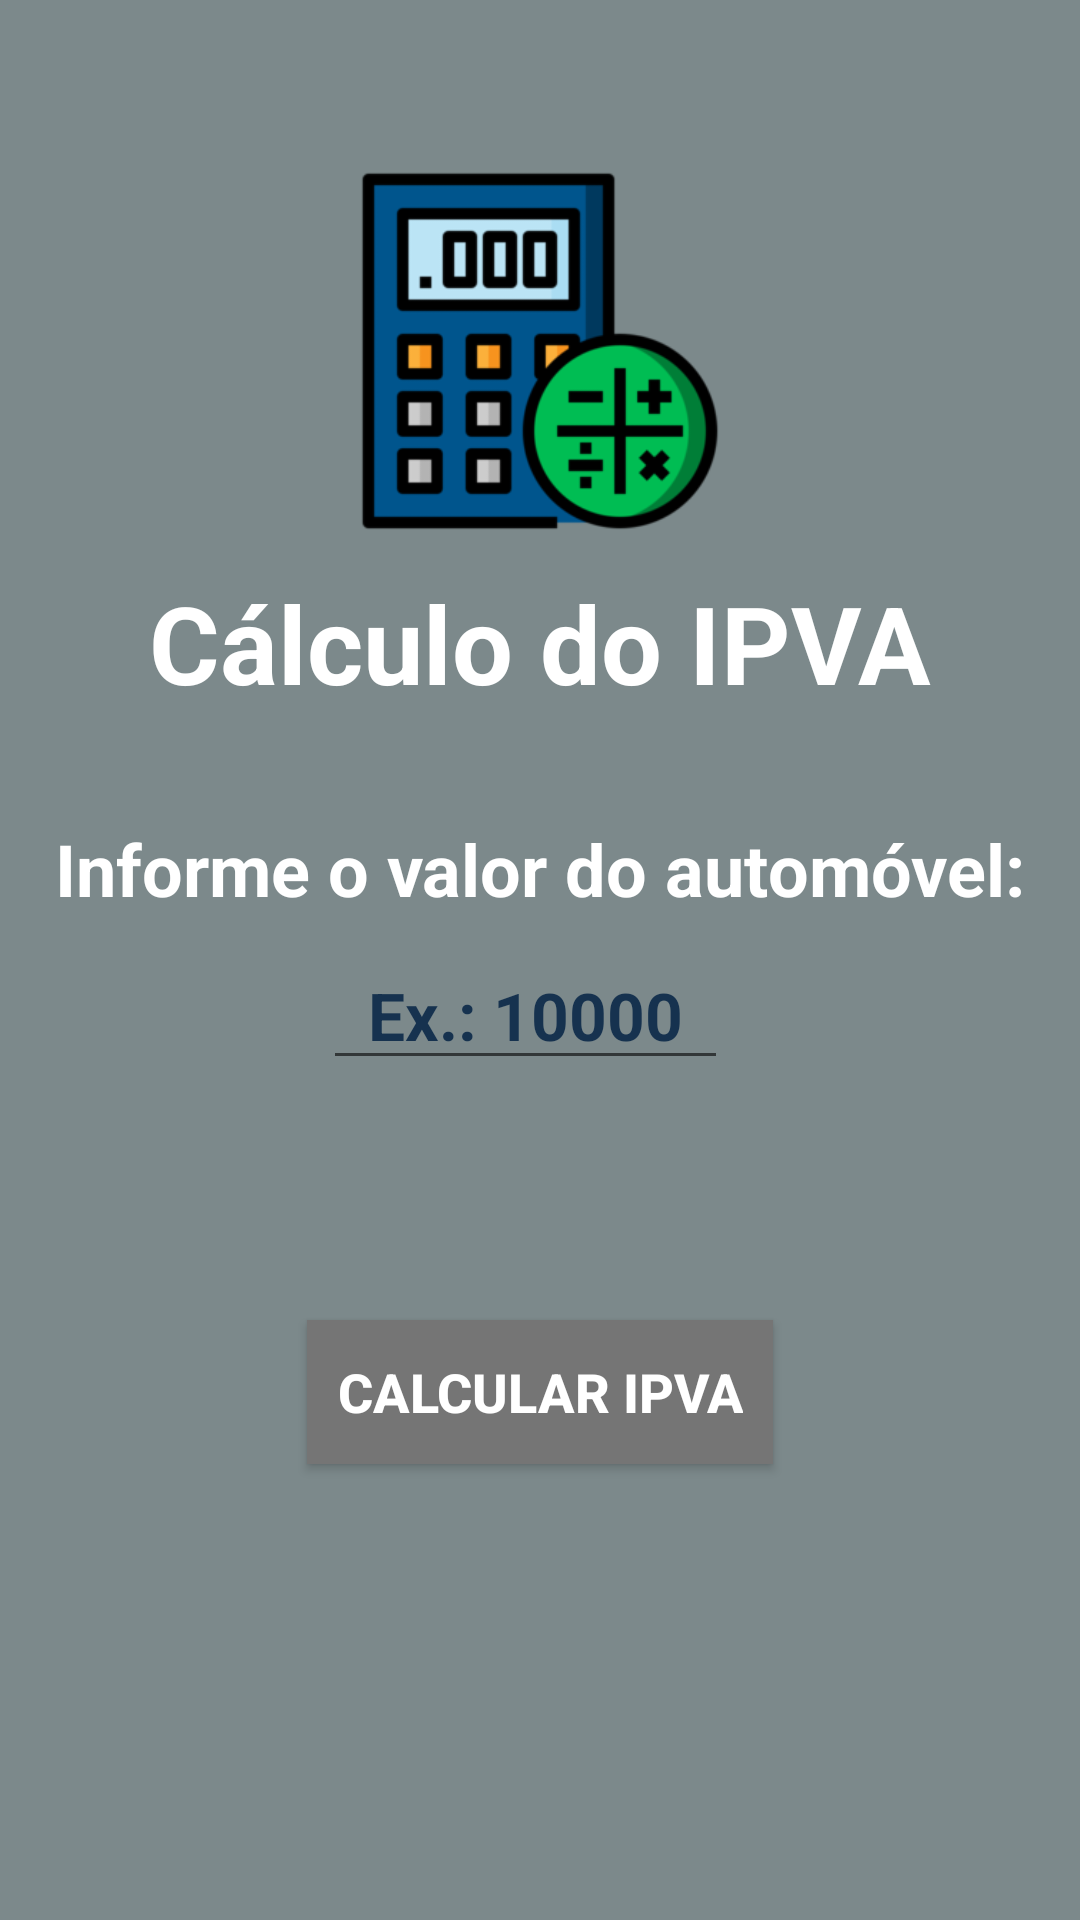

Icons on this 1080x1920 Android screen, each with its box as (x1=x1, y1=y1, x2=x2, y2=y2):
calculator: (x1=362, y1=173, x2=718, y2=529)
